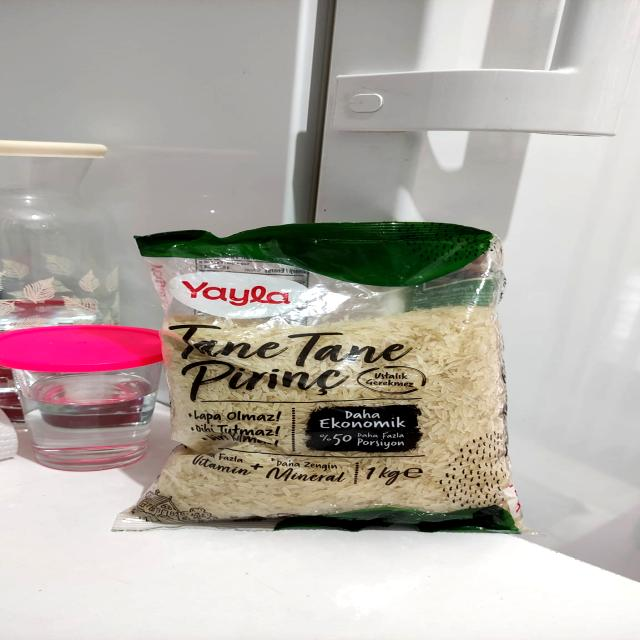rice: (152, 240, 522, 534)
